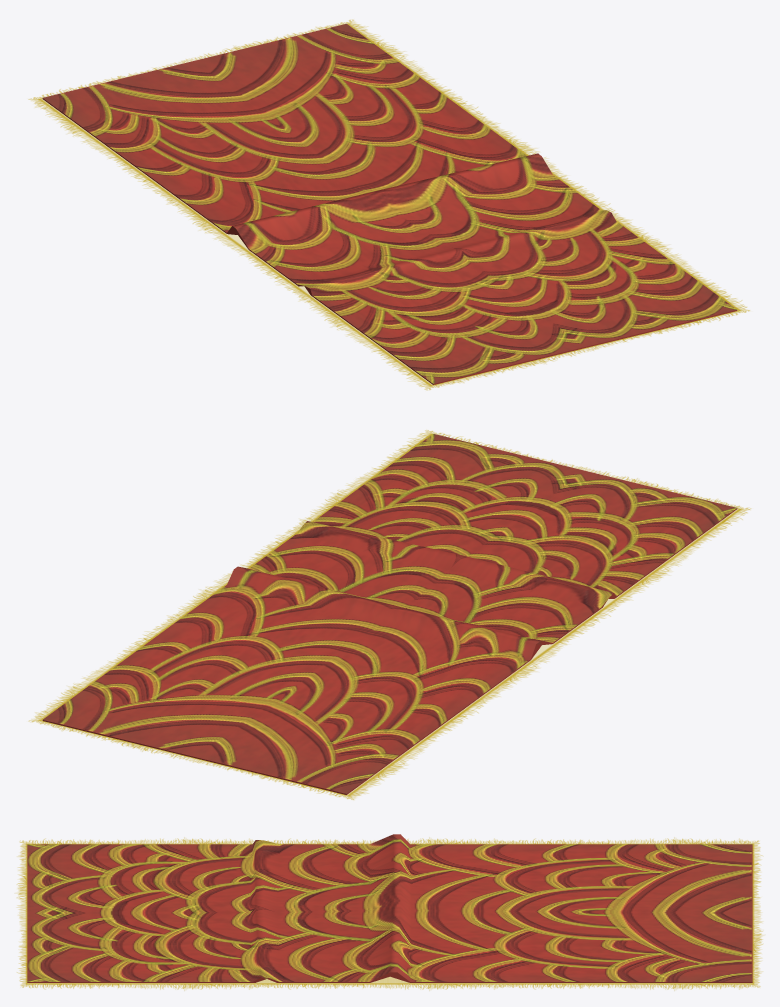
File: Carpet02.glb
3 renders of one model, top to bottom at view 1: azimuth 30°, elevation 25°; view 2: azimuth 150°, elevation 25°; view 3: azimuth 270°, elevation 25°, orthographic. The views are drawn at different scales.
Parts seen in each view (by area): view 1: Carpet02; view 2: Carpet02; view 3: Carpet02.
Part boxes in pixels (bbox=[...]): Carpet02: bbox=[28, 19, 749, 390]; Carpet02: bbox=[28, 430, 750, 799]; Carpet02: bbox=[17, 834, 762, 990].
Size of the model in its own units: 1.3 by 0.043 by 2.63.
Materials: 2 (2 with a texture image).
